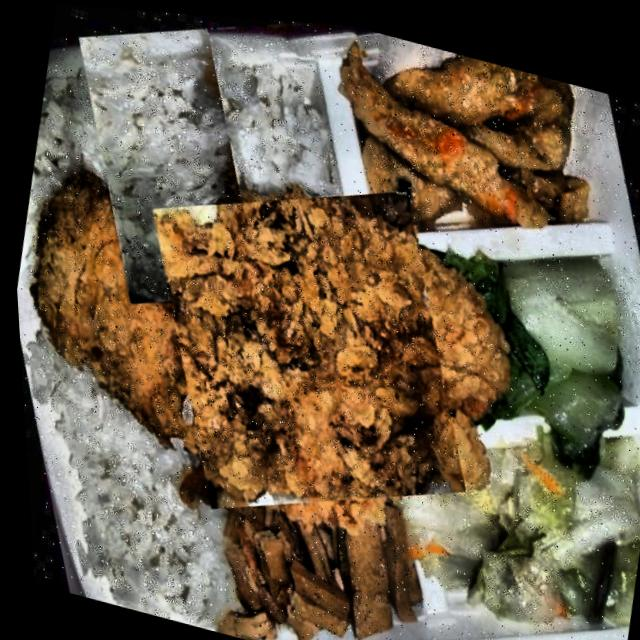Food: (90, 119, 518, 572), (9, 1, 338, 312), (45, 419, 251, 633)
